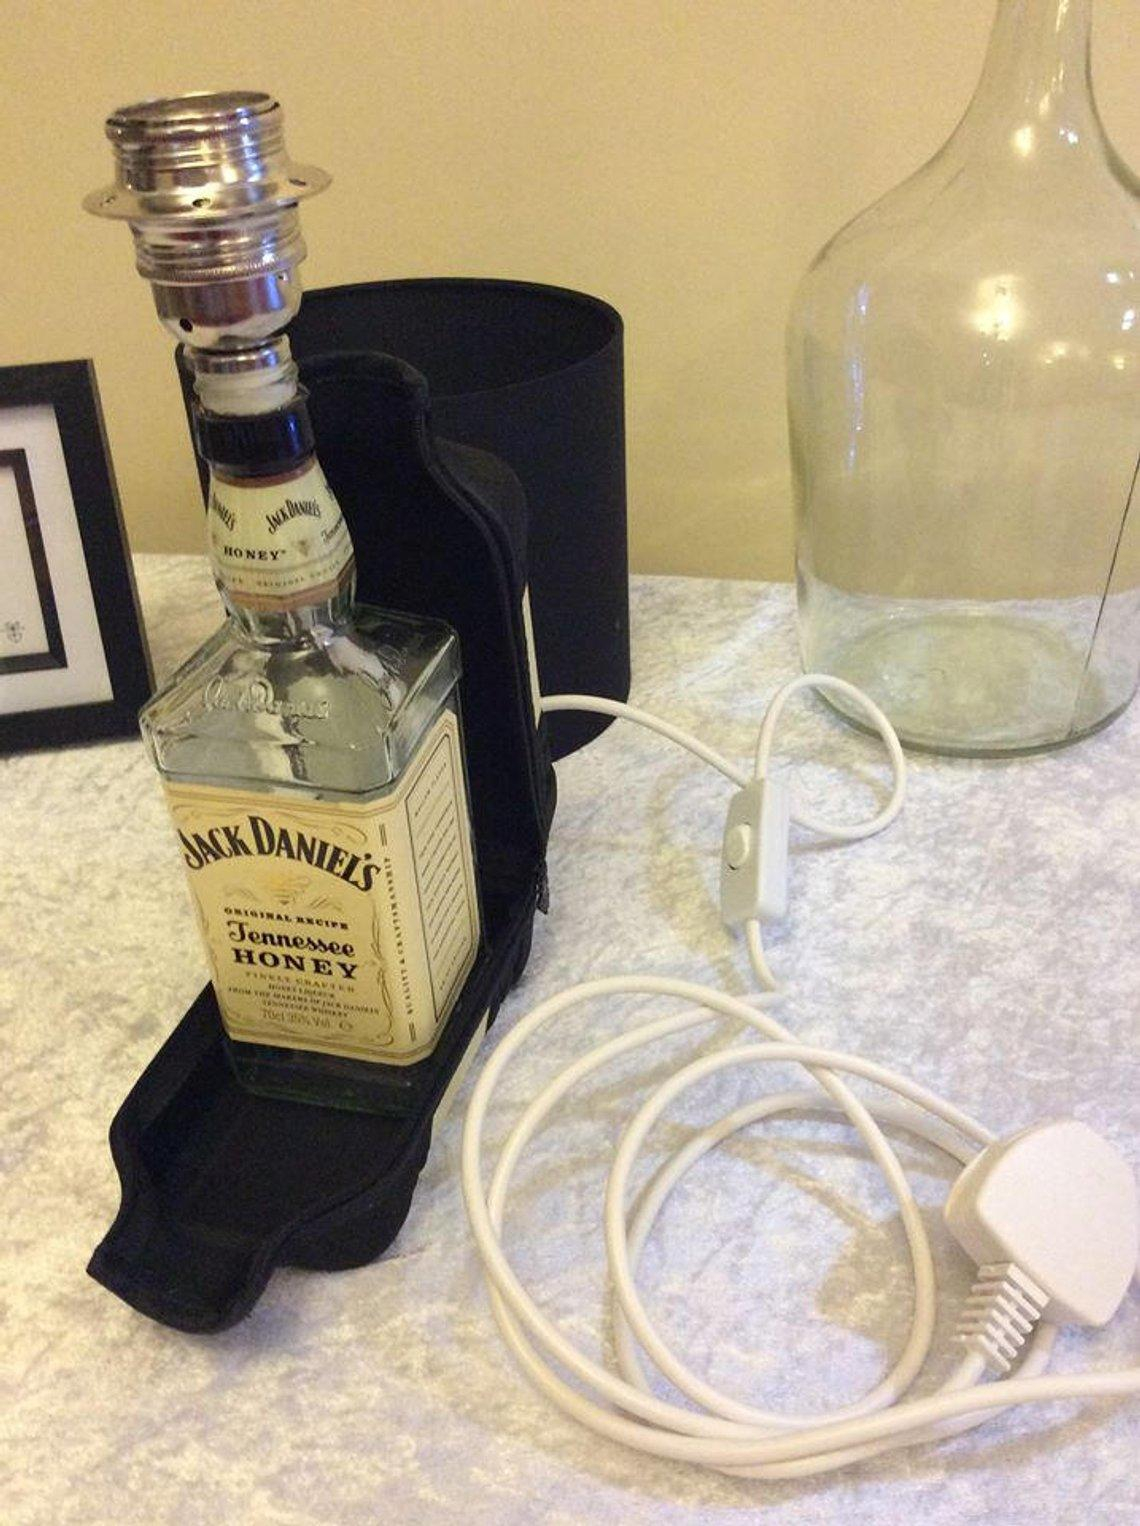Jack Daniel: (117, 306, 527, 1143)
